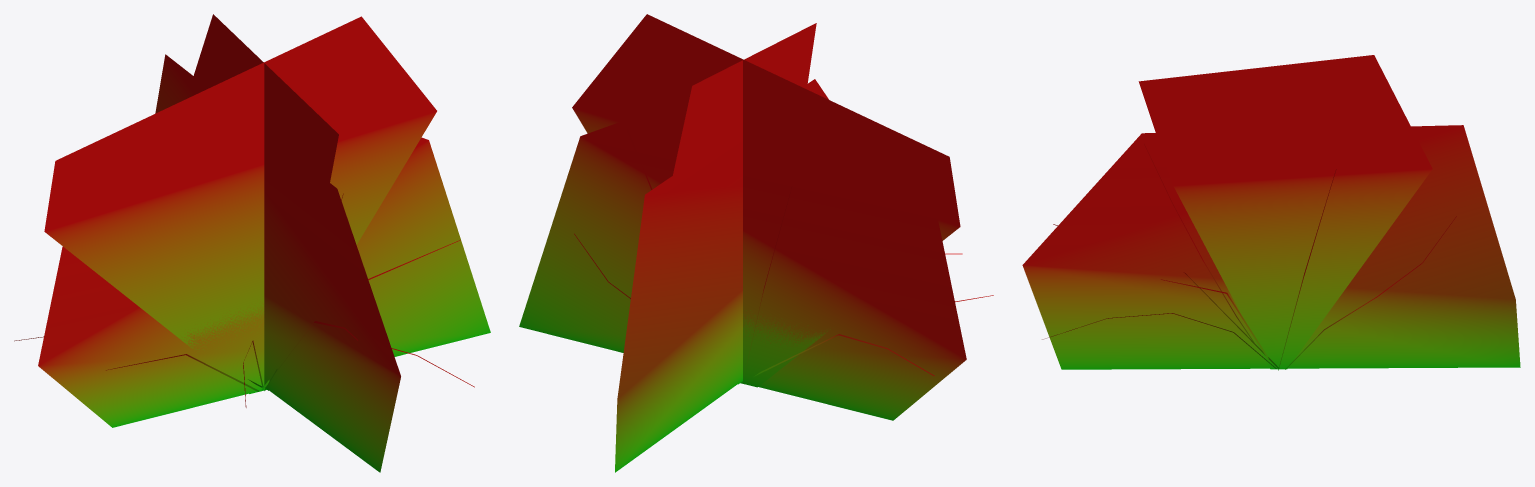
File: Xeric Grass_LOD5_Var2_xjfgdhaqx.fbx
3 views of the same model, side by side, from view 1: azimuth 30°, elevation 25°; view 2: azimuth 150°, elevation 25°; view 3: azimuth 270°, elevation 25° (orthographic). The views are drawn at different scales.
Visible parts, largest first — view 1: _wnar_Var2_LOD5; view 2: _wnar_Var2_LOD5; view 3: _wnar_Var2_LOD5.
Part boxes in pixels (x1,y1,x2,y2): _wnar_Var2_LOD5: [14, 14, 490, 472]; _wnar_Var2_LOD5: [519, 14, 993, 472]; _wnar_Var2_LOD5: [1022, 55, 1520, 370].
Bounding box in the file's own units: 157 × 116 × 159.
